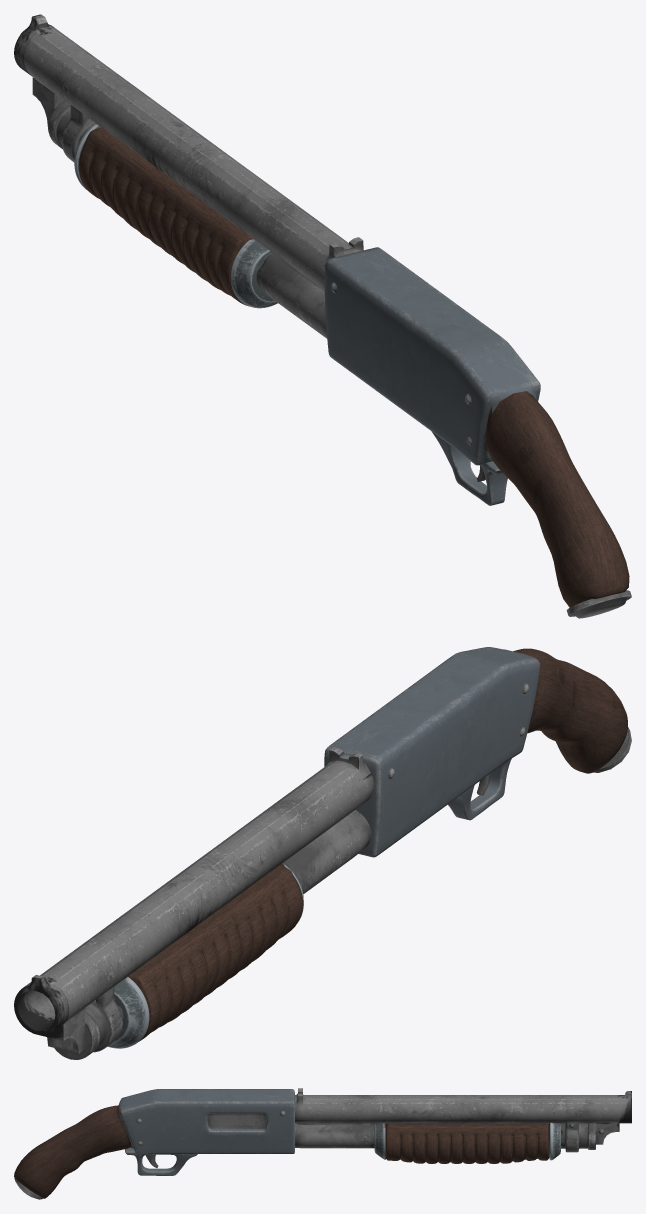
The model's file is g_sawedoff.glb.
3 views of the same model, one above another, from view 1: azimuth 30°, elevation 25°; view 2: azimuth 150°, elevation 25°; view 3: azimuth 270°, elevation 25° (orthographic). The views are drawn at different scales.
Parts seen in each view (by area): view 1: TRIGGER, pump_piece; view 2: TRIGGER, pump_piece; view 3: TRIGGER, pump_piece.
Boxes of the visible parts, left/top/right/bottom form: TRIGGER: left=14, top=14, right=631, bottom=618; pump_piece: left=74, top=123, right=277, bottom=308; TRIGGER: left=14, top=647, right=631, bottom=1059; pump_piece: left=108, top=862, right=303, bottom=1048; TRIGGER: left=14, top=1088, right=631, bottom=1199; pump_piece: left=374, top=1122, right=560, bottom=1163.
Size of the model in its own units: 0.0611 by 0.1534 by 0.8184.
Materials: 2 (2 with a texture image).
